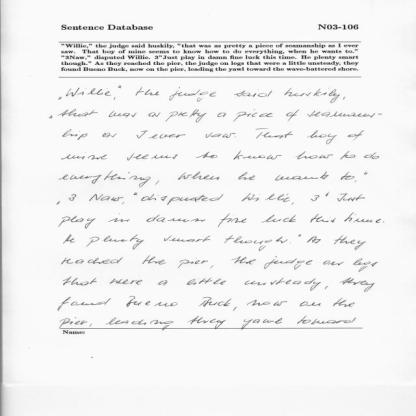Handwritten text: (62, 77, 348, 108), (65, 314, 373, 342), (54, 143, 386, 167), (51, 122, 369, 145), (29, 274, 381, 294), (41, 234, 374, 255), (52, 102, 382, 123), (55, 169, 376, 190), (48, 214, 385, 234), (51, 258, 378, 275), (58, 296, 363, 314), (62, 193, 369, 210)
